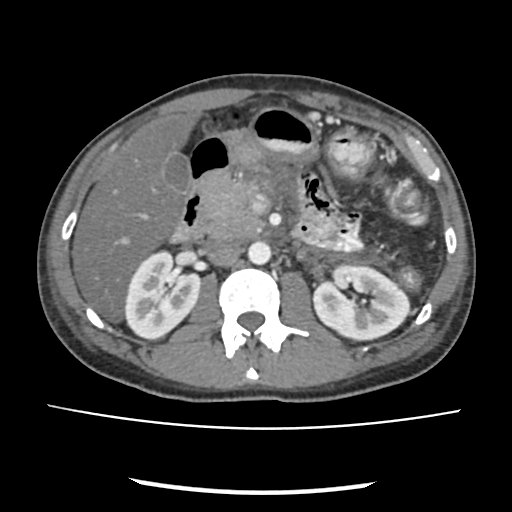aorta: (245, 240, 273, 266)
